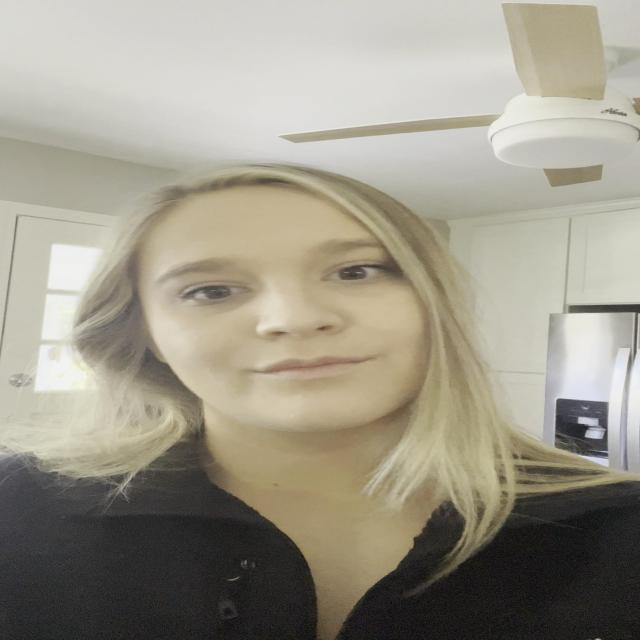no hat: (113, 182, 477, 462)
